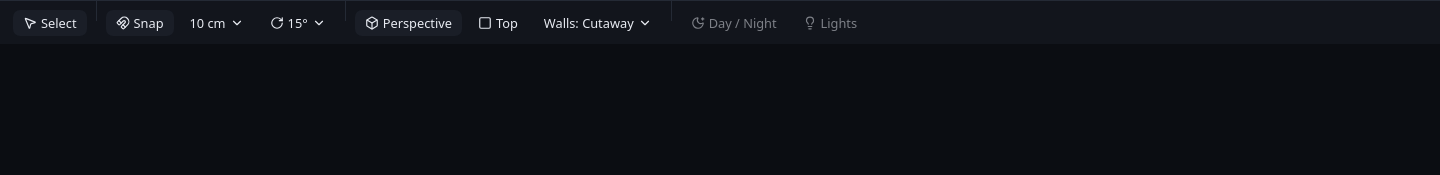
BottomBar › chooses how the walls are drawn
Click the button "Walls: Cutaway": [598, 22] box top-left (533, 8), bottom-right (663, 36)
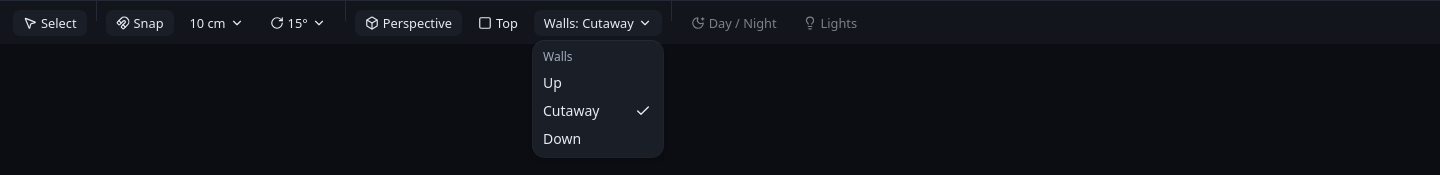
Click the menu item "Down": [562, 138] box top-left (543, 129), bottom-right (581, 148)
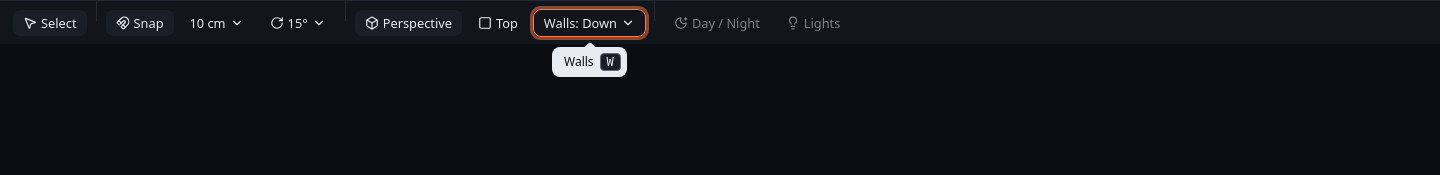
Check: the button "Walls: Down" is shown, box top-left (533, 8), bottom-right (646, 36)
